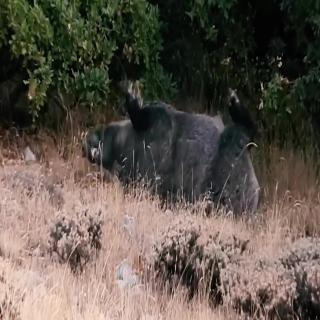Pig: (80, 86, 268, 232)
